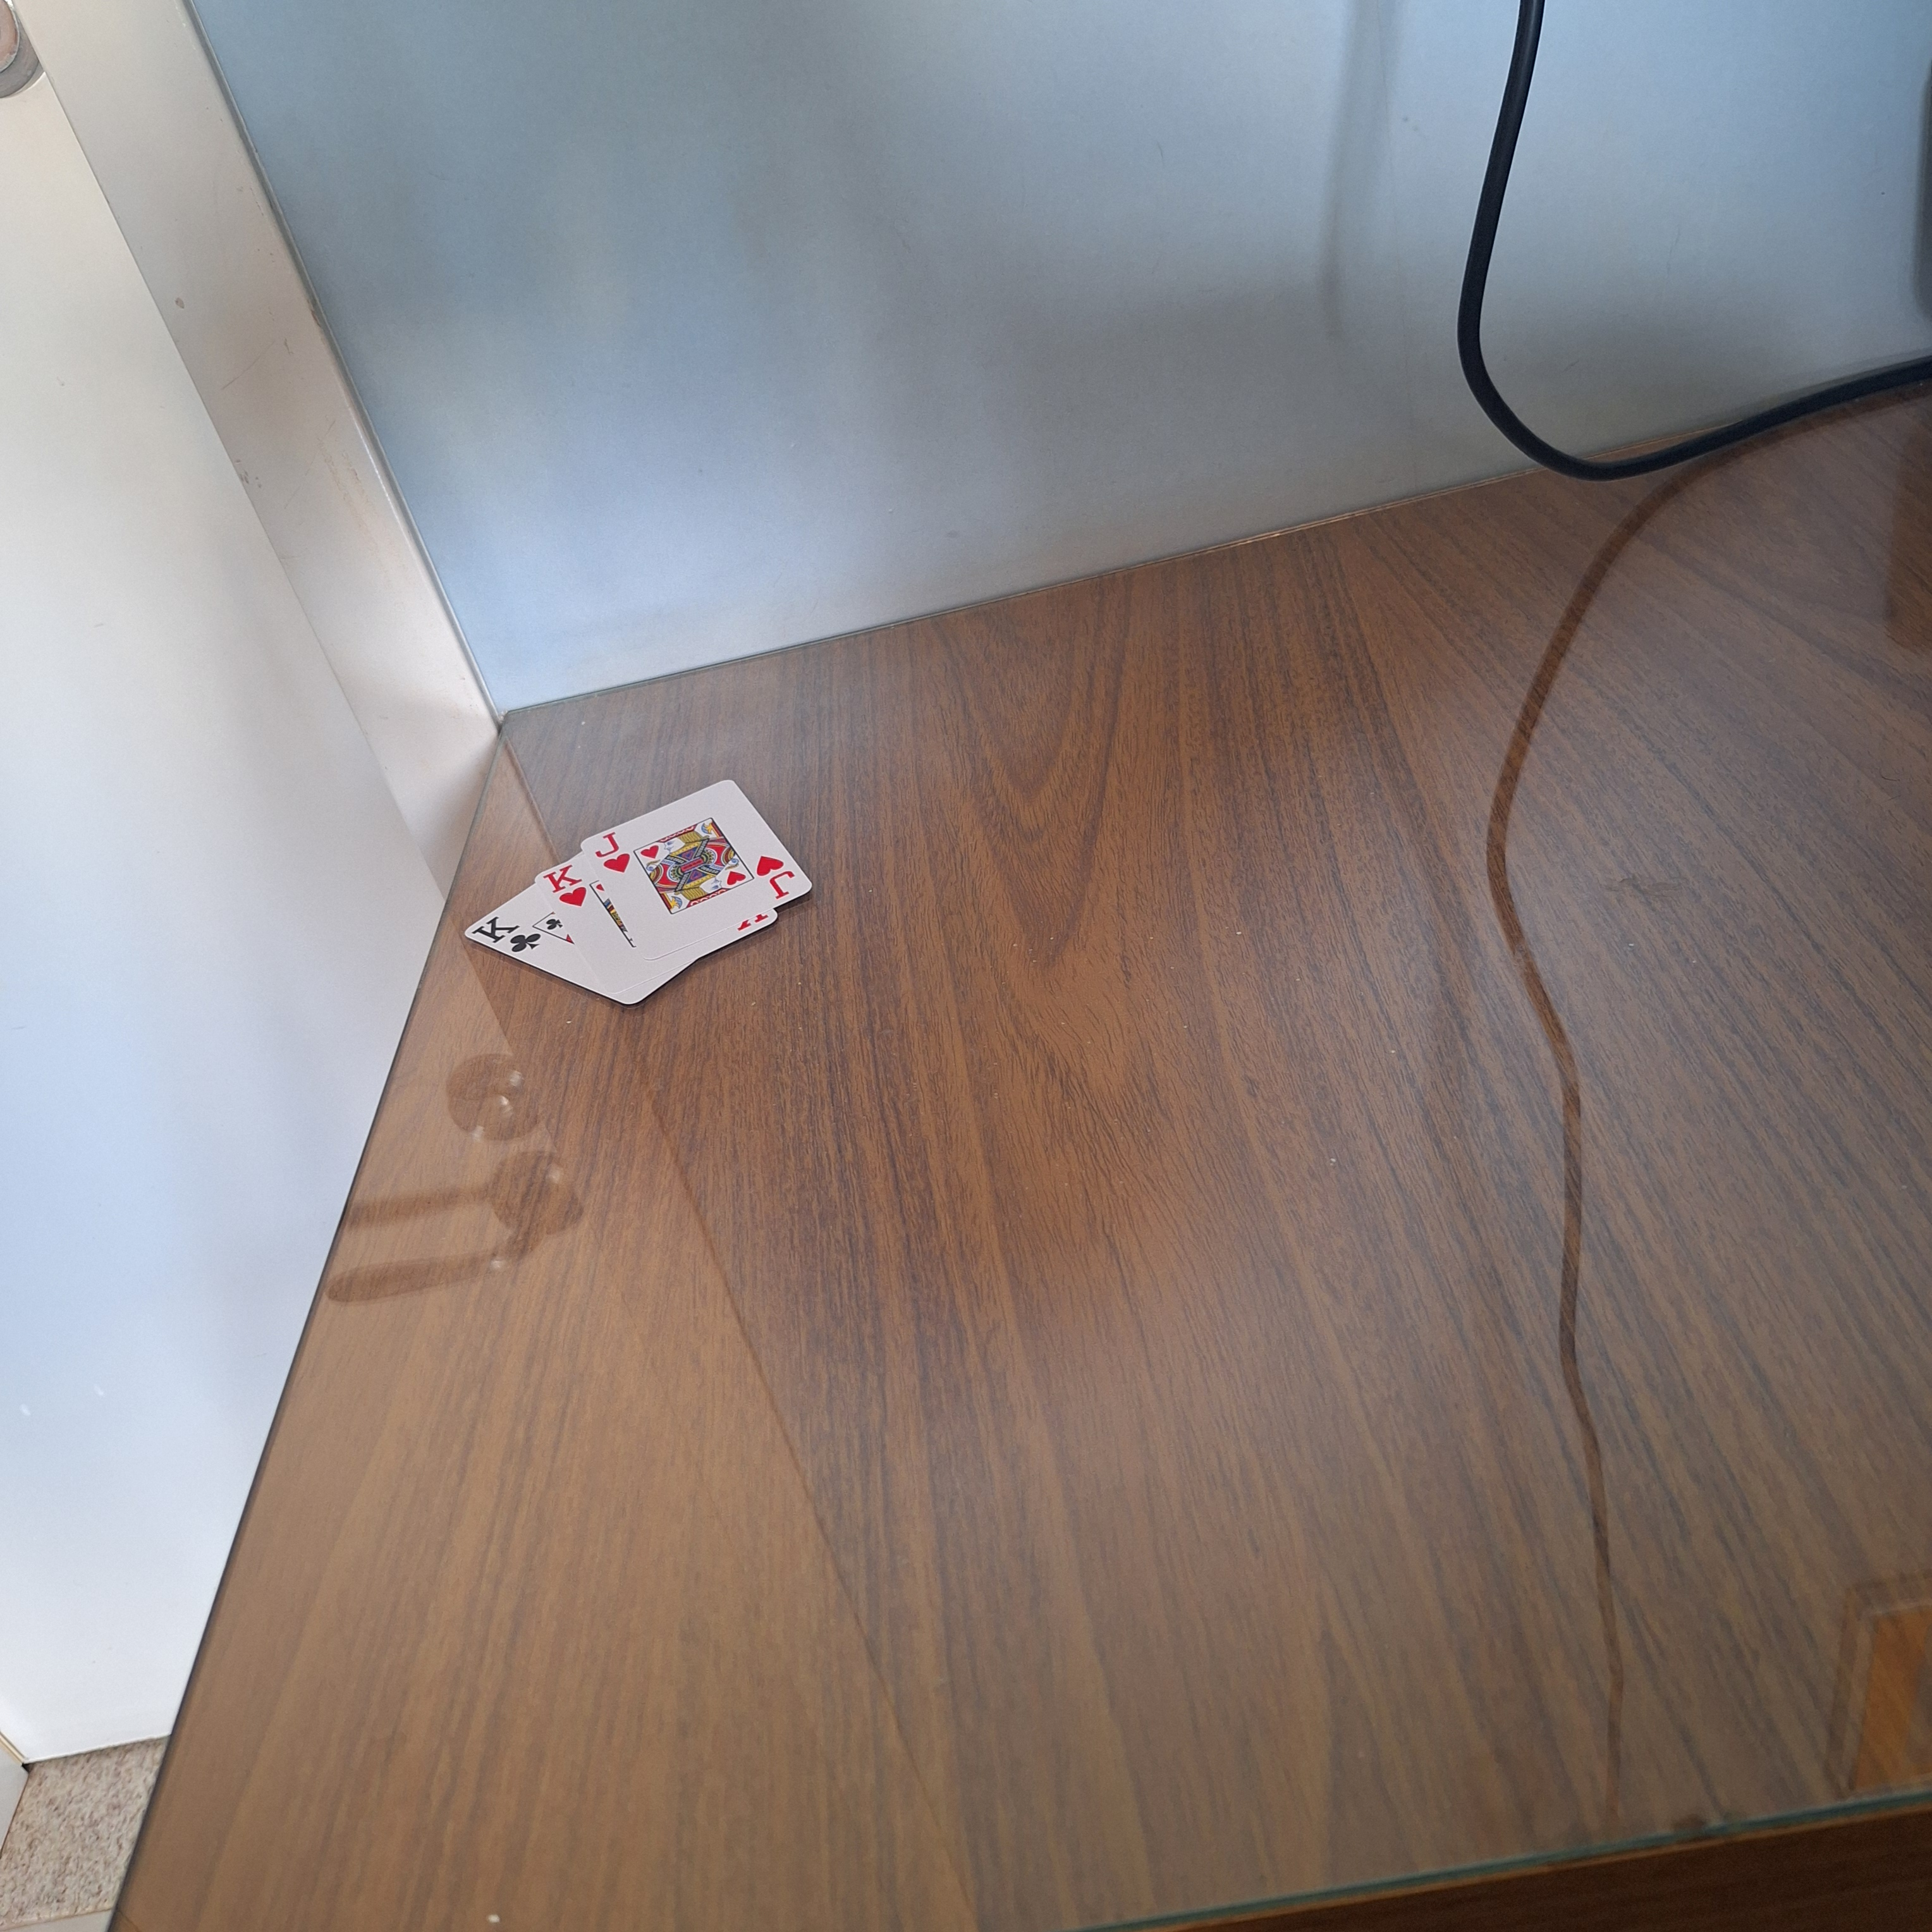JC: (748, 846, 807, 906), (582, 821, 635, 878)
KC: (536, 860, 600, 915)
KP: (465, 908, 543, 966)
